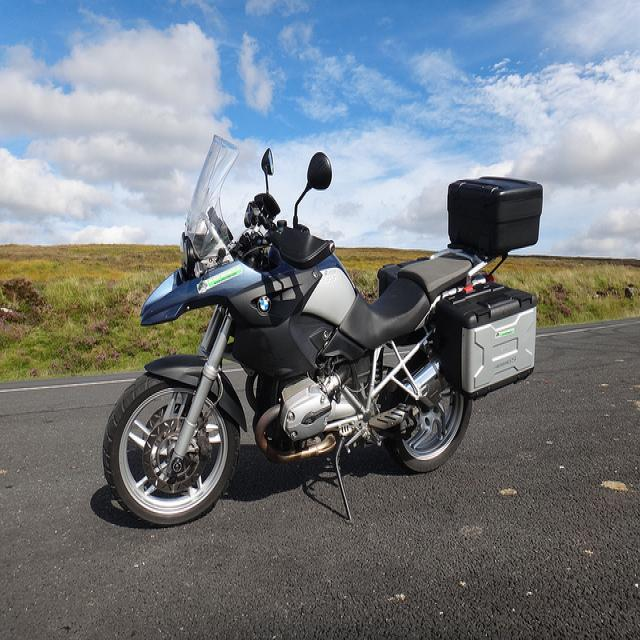motor: (95, 129, 550, 529)
